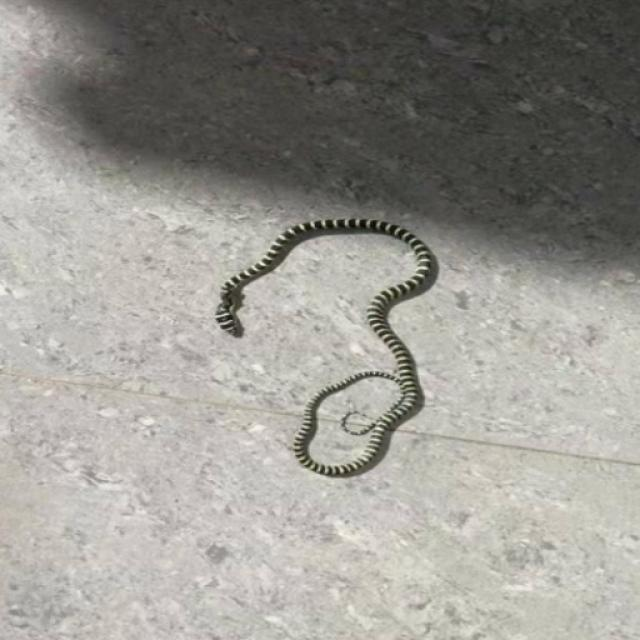snake: (202, 202, 462, 490)
